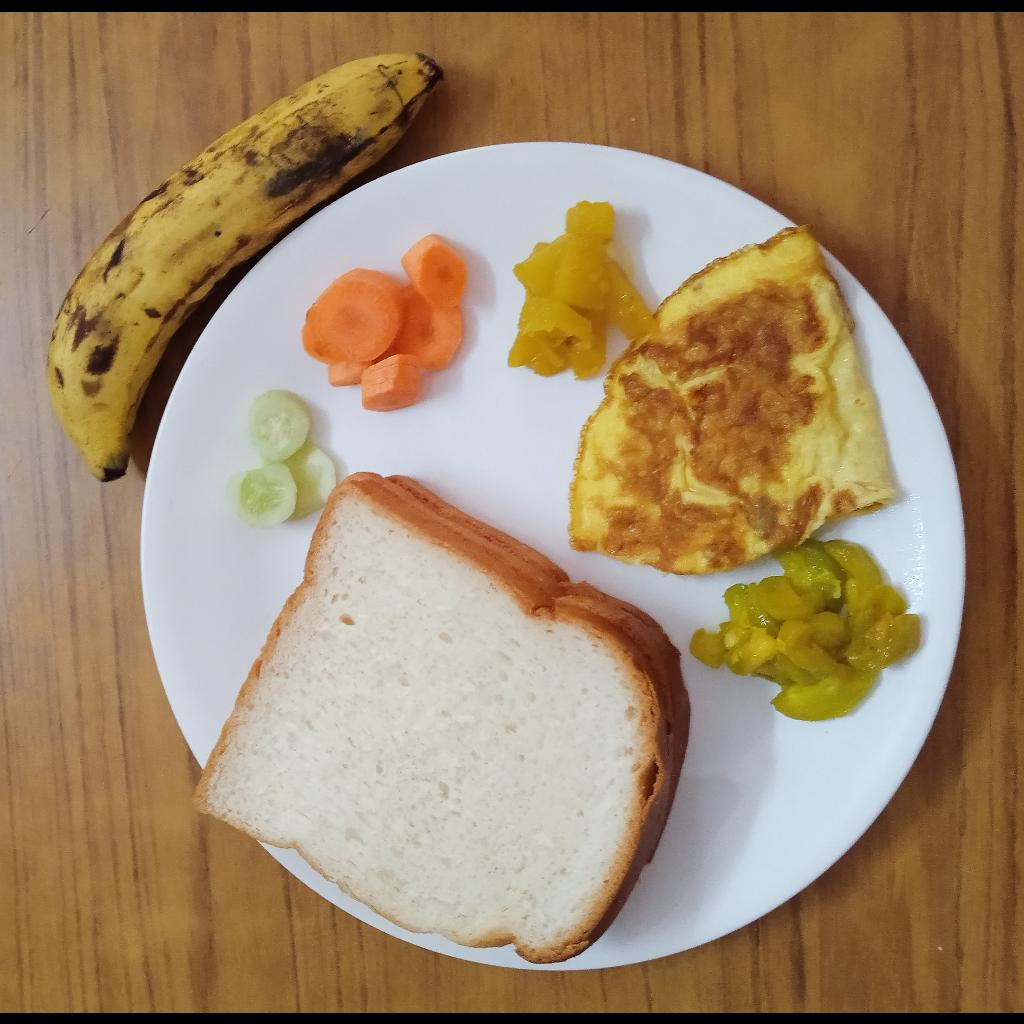banana: (39, 46, 443, 482)
bread: (188, 474, 691, 966)
carrot: (302, 228, 472, 414)
cucumber: (228, 389, 343, 529)
dundol: (688, 539, 922, 725)
egg-poached: (563, 222, 899, 577)
lau: (508, 194, 653, 380)
